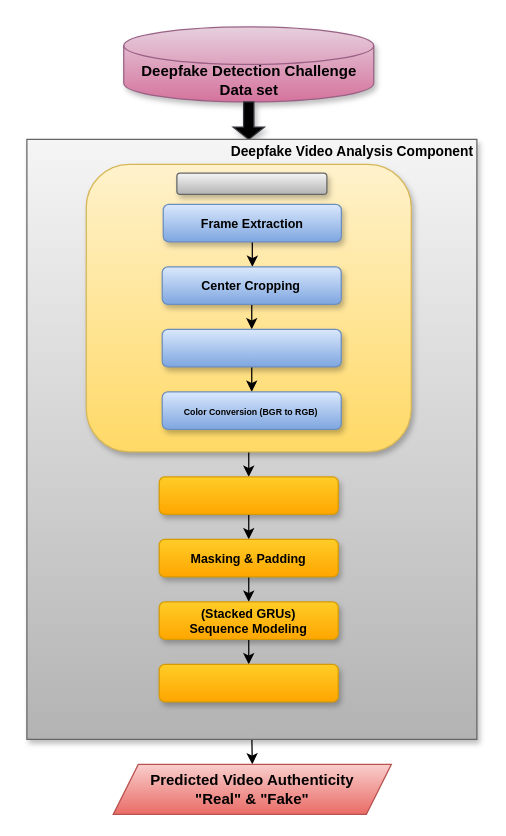
The diagram is 506 pixels wide and 836 high, and some of its shapes have lost their labels. The centre of each missing label's shape, as x and y in pixels:
(EfficientNetB4) Spatial Feature Extraction: pixel 249 497
Binary Classification: pixel 249 684
Resizing (380x380): pixel 252 349
Video Preprocessing: pixel 252 185
